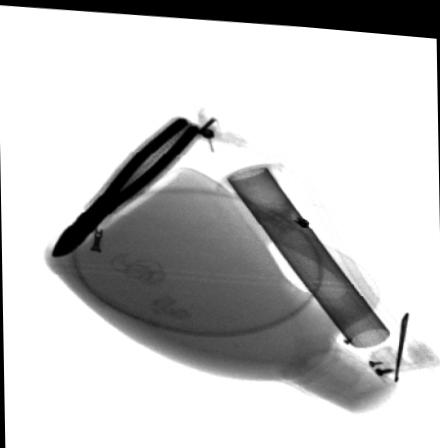Pliers: (48, 111, 202, 256)
